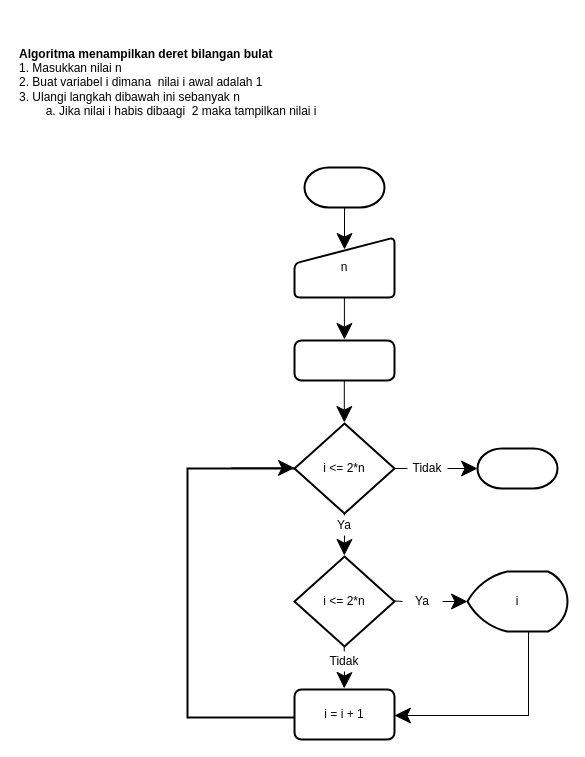
This 585x757 diagram has some shape labels left out. Each missing label, with the centre of its shape:
i = 1: [344,360]
Mulai: [344,187]
Selesai: [517,468]
